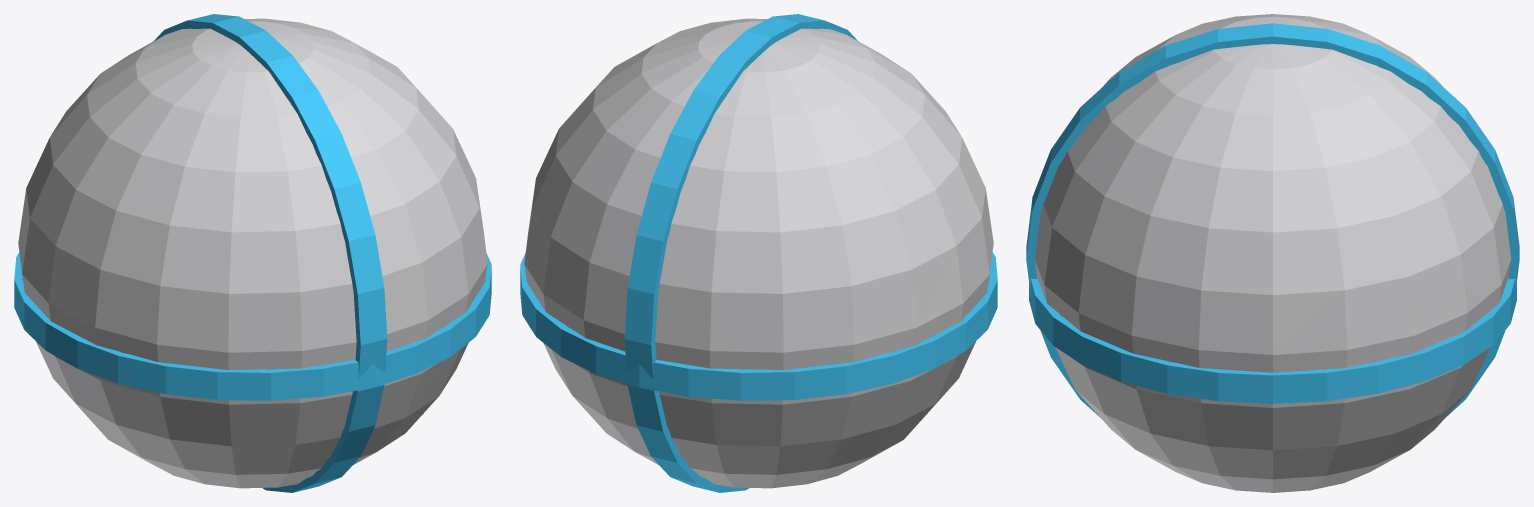
Rendered from vge_grav_engine_orb.obj.
The picture shows the model from 3 angles, left to right: view 1: azimuth 30°, elevation 25°; view 2: azimuth 150°, elevation 25°; view 3: azimuth 270°, elevation 25°; orthographic projection.
Visible parts, largest first — view 1: vge_grav_engine_orb_0, vge_grav_engine_orb_2, vge_grav_engine_orb_1; view 2: vge_grav_engine_orb_0, vge_grav_engine_orb_2, vge_grav_engine_orb_1; view 3: vge_grav_engine_orb_0, vge_grav_engine_orb_1, vge_grav_engine_orb_2.
Boxes of the visible parts, x1,y1,x2,y2 form: vge_grav_engine_orb_0: [18, 18, 487, 488]; vge_grav_engine_orb_2: [154, 14, 387, 492]; vge_grav_engine_orb_1: [14, 252, 491, 400]; vge_grav_engine_orb_0: [524, 18, 993, 488]; vge_grav_engine_orb_2: [624, 14, 857, 492]; vge_grav_engine_orb_1: [520, 252, 997, 400]; vge_grav_engine_orb_0: [1034, 14, 1511, 492]; vge_grav_engine_orb_1: [1029, 277, 1516, 403]; vge_grav_engine_orb_2: [1026, 23, 1519, 417].
Size of the model in its own units: 0.9332 by 0.944 by 0.944.
